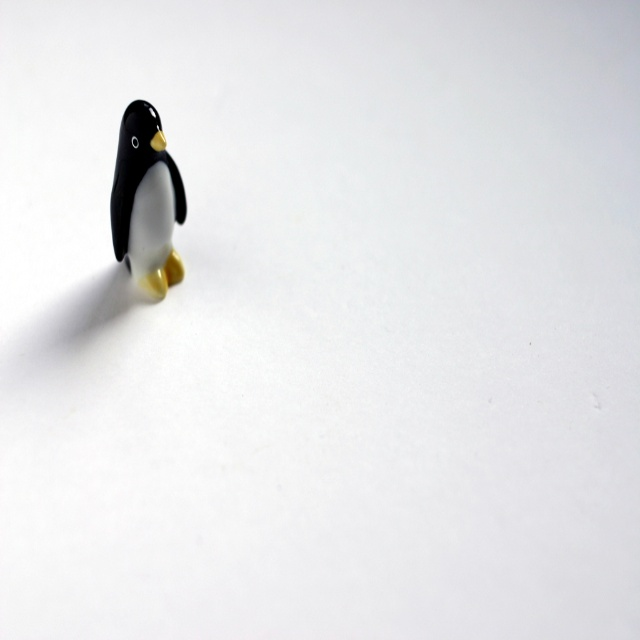Penguin: (108, 95, 190, 299)
